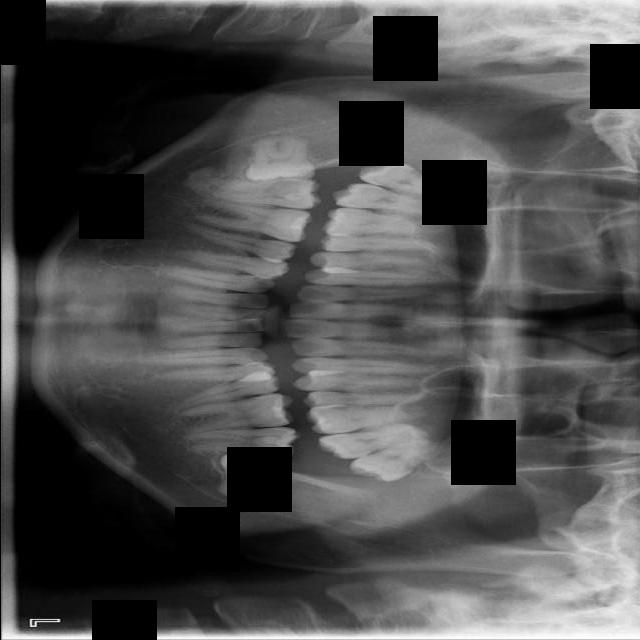3M ESPE Implant: (356, 155, 448, 198)
73: (64, 596, 78, 602)
BioHorizons Implant: (317, 421, 421, 463)
BioLife Implant: (345, 435, 439, 490)
Biomet 3i Implant: (217, 450, 290, 508)
Blue Sky Bio Implant: (186, 426, 298, 462)
Implant: (214, 177, 320, 210)
Keystone Dental Implant: (242, 134, 314, 182)
